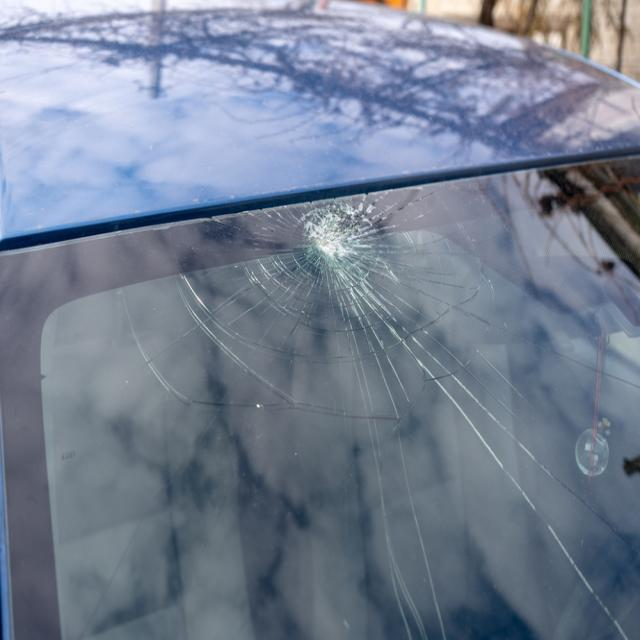Fissure: (104, 160, 508, 416), (350, 350, 640, 640), (295, 188, 387, 288)
